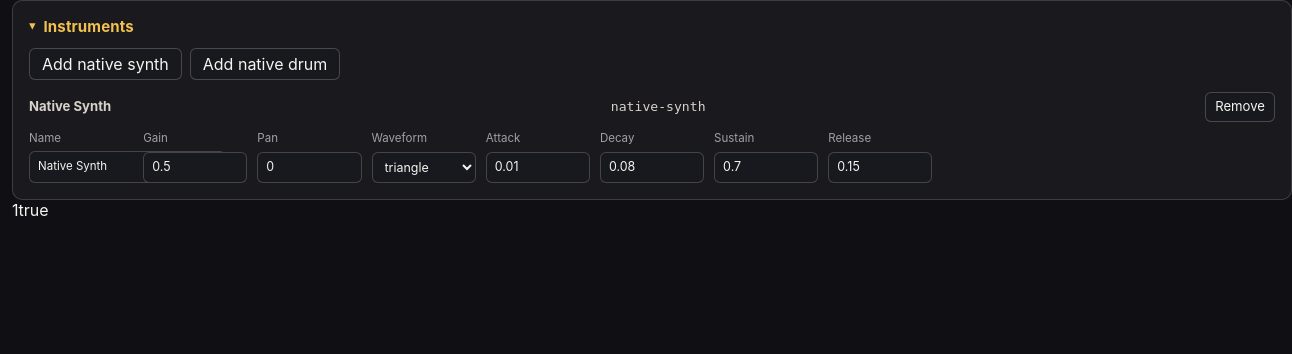
InstrumentPanel add and remove › adds another native synth under a distinct name
Click the button "Add native synth": (105, 64) [29, 48, 182, 80]
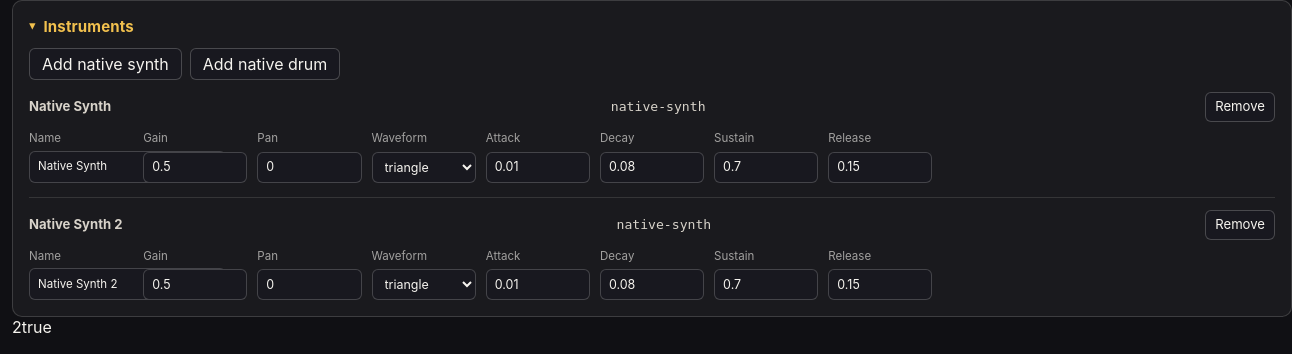
Expected: the text named "Instrument count" reads "2", [12, 317, 22, 337]
Expected: the text "Native Synth 2" is shown, [29, 215, 122, 234]
